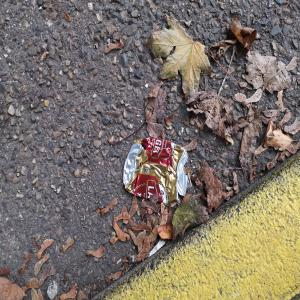Can: (123, 136, 194, 209)
